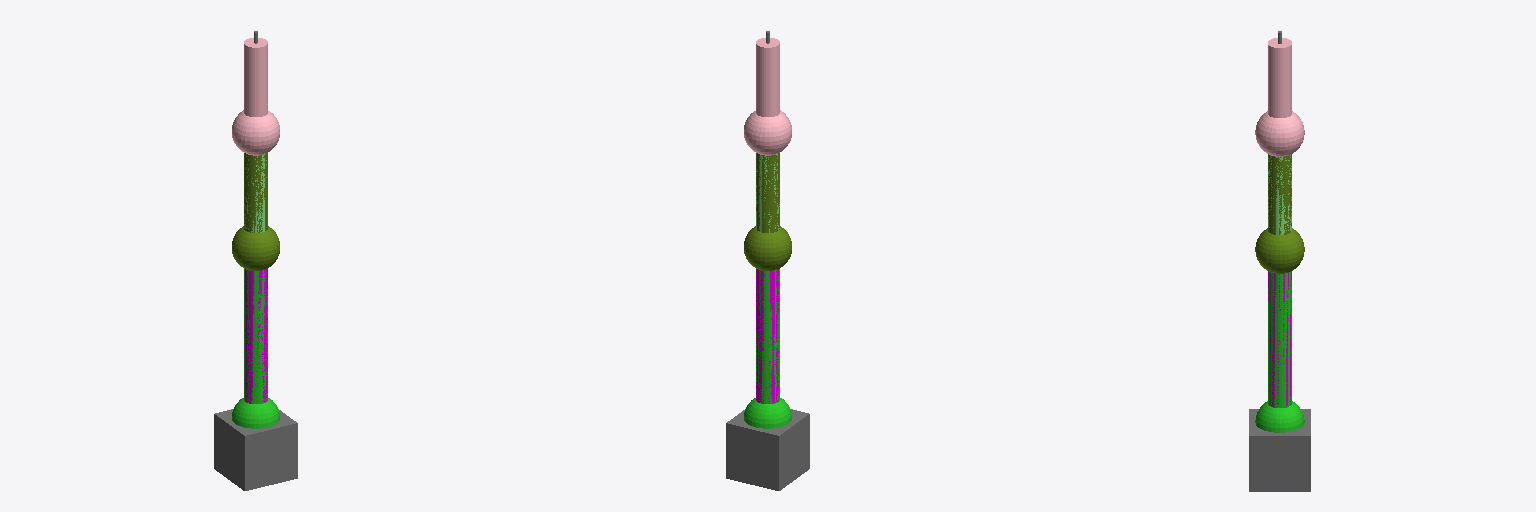
robot.urdf — test_robot:
<?xml version="1.0" ?>
<robot name="test_robot">
    <link name="base_link">
        <inertial>
            <mass value="1.0"/>
            <inertia ixx="0.010416666666666666" iyy="0.010416666666666666" izz="0.010416666666666666" ixy="0.0" ixz="0.0" iyz="0.0"/>
            <origin xyz="0 0 0" rpy="0 0 0"/>
        </inertial>
        <visual>
            <origin xyz="0 0 0" rpy="0 0 0"/>
            <geometry>
                <box size="0.25 0.25 0.25"/>
            </geometry>
            <material name="gray">
                <color rgba="0.5 0.5 0.5 1"/>
            </material>
        </visual>
    </link>
    <joint name="sph_joint_x_1" type="revolute">
        <parent link="base_link"/>
        <child link="sph_link_x_1"/>
        <origin xyz="0 0 0.125" rpy="0 0 0"/>
        <axis xyz="1 0 0"/>
        <limit lower="-3.14" upper="3.14" effort="10" velocity="1"/>
    </joint>
    <link name="sph_link_x_1">
        <inertial>
            <mass value="0.001"/>
            <inertia ixx="4.000000000000001e-06" iyy="4.000000000000001e-06" izz="4.000000000000001e-06" ixy="0.0" ixz="0.0" iyz="0.0"/>
            <origin xyz="0 0 0" rpy="0 0 0"/>
        </inertial>
        <visual>
            <origin xyz="0 0 0" rpy="0 0 0"/>
            <geometry>
                <sphere radius="0.1"/>
            </geometry>
            <material name="limegreen">
                <color rgba="0.19607843137254902 0.803921568627451 0.19607843137254902 1.0"/>
            </material>
        </visual>
    </link>
    <joint name="sph_joint_y_1" type="revolute">
        <parent link="sph_link_x_1"/>
        <child link="sph_link_y_1"/>
        <origin xyz="0 0 0" rpy="0 0 0"/>
        <axis xyz="0 1 0"/>
        <limit lower="-3.14" upper="3.14" effort="10" velocity="1"/>
    </joint>
    <link name="sph_link_y_1">
        <inertial>
            <mass value="0.001"/>
            <inertia ixx="4.000000000000001e-06" iyy="4.000000000000001e-06" izz="4.000000000000001e-06" ixy="0.0" ixz="0.0" iyz="0.0"/>
            <origin xyz="0 0 0" rpy="0 0 0"/>
        </inertial>
        <visual>
            <origin xyz="0 0 0" rpy="0 0 0"/>
            <geometry>
                <sphere radius="0.1"/>
            </geometry>
            <material name="limegreen">
                <color rgba="0.19607843137254902 0.803921568627451 0.19607843137254902 1.0"/>
            </material>
        </visual>
    </link>
    <joint name="sph_joint_z_1" type="revolute">
        <parent link="sph_link_y_1"/>
        <child link="sph_link_z_1"/>
        <origin xyz="0 0 0" rpy="0 0 0"/>
        <axis xyz="0 0 1"/>
        <limit lower="-3.14" upper="3.14" effort="10" velocity="1"/>
    </joint>
    <link name="sph_link_z_1">
        <inertial>
            <mass value="0.001"/>
            <inertia ixx="4.000000000000001e-06" iyy="4.000000000000001e-06" izz="4.000000000000001e-06" ixy="0.0" ixz="0.0" iyz="0.0"/>
            <origin xyz="0 0 0" rpy="0 0 0"/>
        </inertial>
        <visual>
            <origin xyz="0 0 0" rpy="0 0 0"/>
            <geometry>
                <sphere radius="0.1"/>
            </geometry>
            <material name="limegreen">
                <color rgba="0.19607843137254902 0.803921568627451 0.19607843137254902 1.0"/>
            </material>
        </visual>
    </link>
    <joint name="joint0" type="fixed">
        <parent link="sph_link_z_1"/>
        <child link="link0"/>
        <origin xyz="0 0 0" rpy="0 0 0"/>
    </joint>
    <link name="link0">
        <inertial>
            <mass value="1.0"/>
            <inertia ixx="0.047499999999999994" iyy="0.047499999999999994" izz="0.0012500000000000002" ixy="0.0" ixz="0.0" iyz="0.0"/>
            <origin xyz="0 0 0.375" rpy="0 0 0"/>
        </inertial>
        <visual>
            <origin xyz="0 0 0.375" rpy="0 0 0"/>
            <geometry>
                <cylinder length="0.75" radius="0.05"/>
            </geometry>
            <material name="limegreen">
                <color rgba="0.19607843137254902 0.803921568627451 0.19607843137254902 1.0"/>
            </material>
        </visual>
        <collision>
            <origin xyz="0 0 0.375" rpy="0 0 0"/>
            <geometry>
                <cylinder length="0.75" radius="0.05"/>
            </geometry>
        </collision>
    </link>
    <joint name="joint1" type="prismatic">
        <parent link="link0"/>
        <child link="link1"/>
        <origin xyz="0 0 0.061" rpy="0 0 0"/>
        <axis xyz="0 0 1"/>
        <limit lower="0" upper="0.7" effort="10" velocity="1"/>
    </joint>
    <link name="link1">
        <inertial>
            <mass value="1.0"/>
            <inertia ixx="0.04275174999999999" iyy="0.04275174999999999" izz="0.0012500000000000002" ixy="0.0" ixz="0.0" iyz="0.0"/>
            <origin xyz="0 0 0.3555" rpy="0 0 0"/>
        </inertial>
        <visual>
            <origin xyz="0 0 0.3555" rpy="0 0 0"/>
            <geometry>
                <cylinder length="0.711" radius="0.05"/>
            </geometry>
            <material name="fuchsia">
                <color rgba="1.0 0.0 1.0 1.0"/>
            </material>
        </visual>
        <collision>
            <origin xyz="0 0 0.3555" rpy="0 0 0"/>
            <geometry>
                <cylinder length="0.711" radius="0.05"/>
            </geometry>
        </collision>
    </link>
    <joint name="sph_joint_x_2" type="revolute">
        <parent link="link1"/>
        <child link="sph_link_x_2"/>
        <origin xyz="0 0 0.711" rpy="0 0 0"/>
        <axis xyz="1 0 0"/>
        <limit lower="-3.14" upper="3.14" effort="10" velocity="1"/>
    </joint>
    <link name="sph_link_x_2">
        <inertial>
            <mass value="0.001"/>
            <inertia ixx="4.000000000000001e-06" iyy="4.000000000000001e-06" izz="4.000000000000001e-06" ixy="0.0" ixz="0.0" iyz="0.0"/>
            <origin xyz="0 0 0" rpy="0 0 0"/>
        </inertial>
        <visual>
            <origin xyz="0 0 0" rpy="0 0 0"/>
            <geometry>
                <sphere radius="0.1"/>
            </geometry>
            <material name="olivedrab">
                <color rgba="0.4196078431372549 0.5568627450980392 0.13725490196078433 1.0"/>
            </material>
        </visual>
    </link>
    <joint name="sph_joint_y_2" type="revolute">
        <parent link="sph_link_x_2"/>
        <child link="sph_link_y_2"/>
        <origin xyz="0 0 0" rpy="0 0 0"/>
        <axis xyz="0 1 0"/>
        <limit lower="-3.14" upper="3.14" effort="10" velocity="1"/>
    </joint>
    <link name="sph_link_y_2">
        <inertial>
            <mass value="0.001"/>
            <inertia ixx="4.000000000000001e-06" iyy="4.000000000000001e-06" izz="4.000000000000001e-06" ixy="0.0" ixz="0.0" iyz="0.0"/>
            <origin xyz="0 0 0" rpy="0 0 0"/>
        </inertial>
        <visual>
            <origin xyz="0 0 0" rpy="0 0 0"/>
            <geometry>
                <sphere radius="0.1"/>
            </geometry>
            <material name="olivedrab">
                <color rgba="0.4196078431372549 0.5568627450980392 0.13725490196078433 1.0"/>
            </material>
        </visual>
    </link>
    <joint name="sph_joint_z_2" type="revolute">
        <parent link="sph_link_y_2"/>
        <child link="sph_link_z_2"/>
        <origin xyz="0 0 0" rpy="0 0 0"/>
        <axis xyz="0 0 1"/>
        <limit lower="-3.14" upper="3.14" effort="10" velocity="1"/>
    </joint>
    <link name="sph_link_z_2">
        <inertial>
            <mass value="0.001"/>
            <inertia ixx="4.000000000000001e-06" iyy="4.000000000000001e-06" izz="4.000000000000001e-06" ixy="0.0" ixz="0.0" iyz="0.0"/>
            <origin xyz="0 0 0" rpy="0 0 0"/>
        </inertial>
        <visual>
            <origin xyz="0 0 0" rpy="0 0 0"/>
            <geometry>
                <sphere radius="0.1"/>
            </geometry>
            <material name="olivedrab">
                <color rgba="0.4196078431372549 0.5568627450980392 0.13725490196078433 1.0"/>
            </material>
        </visual>
    </link>
    <joint name="joint2" type="fixed">
        <parent link="sph_link_z_2"/>
        <child link="link2"/>
        <origin xyz="0 0 0" rpy="0 0 0"/>
    </joint>
    <link name="link2">
        <inertial>
            <mass value="1.0"/>
            <inertia ixx="0.021458333333333333" iyy="0.021458333333333333" izz="0.0012500000000000002" ixy="0.0" ixz="0.0" iyz="0.0"/>
            <origin xyz="0 0 0.25" rpy="0 0 0"/>
        </inertial>
        <visual>
            <origin xyz="0 0 0.25" rpy="0 0 0"/>
            <geometry>
                <cylinder length="0.5" radius="0.05"/>
            </geometry>
            <material name="olivedrab">
                <color rgba="0.4196078431372549 0.5568627450980392 0.13725490196078433 1.0"/>
            </material>
        </visual>
        <collision>
            <origin xyz="0 0 0.25" rpy="0 0 0"/>
            <geometry>
                <cylinder length="0.5" radius="0.05"/>
            </geometry>
        </collision>
    </link>
    <joint name="joint3" type="prismatic">
        <parent link="link2"/>
        <child link="link3"/>
        <origin xyz="0 0 0.061" rpy="0 0 0"/>
        <axis xyz="0 0 1"/>
        <limit lower="0" upper="0.45" effort="10" velocity="1"/>
    </joint>
    <link name="link3">
        <inertial>
            <mass value="1.0"/>
            <inertia ixx="0.018335083333333335" iyy="0.018335083333333335" izz="0.0012500000000000002" ixy="0.0" ixz="0.0" iyz="0.0"/>
            <origin xyz="0 0 0.2305" rpy="0 0 0"/>
        </inertial>
        <visual>
            <origin xyz="0 0 0.2305" rpy="0 0 0"/>
            <geometry>
                <cylinder length="0.461" radius="0.05"/>
            </geometry>
            <material name="lightgreen">
                <color rgba="0.5647058823529412 0.9333333333333333 0.5647058823529412 1.0"/>
            </material>
        </visual>
        <collision>
            <origin xyz="0 0 0.2305" rpy="0 0 0"/>
            <geometry>
                <cylinder length="0.461" radius="0.05"/>
            </geometry>
        </collision>
    </link>
    <joint name="sph_joint_x_3" type="revolute">
        <parent link="link3"/>
        <child link="sph_link_x_3"/>
        <origin xyz="0 0 0.461" rpy="0 0 0"/>
        <axis xyz="1 0 0"/>
        <limit lower="-3.14" upper="3.14" effort="10" velocity="1"/>
    </joint>
    <link name="sph_link_x_3">
        <inertial>
            <mass value="0.001"/>
            <inertia ixx="4.000000000000001e-06" iyy="4.000000000000001e-06" izz="4.000000000000001e-06" ixy="0.0" ixz="0.0" iyz="0.0"/>
            <origin xyz="0 0 0" rpy="0 0 0"/>
        </inertial>
        <visual>
            <origin xyz="0 0 0" rpy="0 0 0"/>
            <geometry>
                <sphere radius="0.1"/>
            </geometry>
            <material name="pink">
                <color rgba="1.0 0.7529411764705882 0.796078431372549 1.0"/>
            </material>
        </visual>
    </link>
    <joint name="sph_joint_y_3" type="revolute">
        <parent link="sph_link_x_3"/>
        <child link="sph_link_y_3"/>
        <origin xyz="0 0 0" rpy="0 0 0"/>
        <axis xyz="0 1 0"/>
        <limit lower="-3.14" upper="3.14" effort="10" velocity="1"/>
    </joint>
    <link name="sph_link_y_3">
        <inertial>
            <mass value="0.001"/>
            <inertia ixx="4.000000000000001e-06" iyy="4.000000000000001e-06" izz="4.000000000000001e-06" ixy="0.0" ixz="0.0" iyz="0.0"/>
            <origin xyz="0 0 0" rpy="0 0 0"/>
        </inertial>
        <visual>
            <origin xyz="0 0 0" rpy="0 0 0"/>
            <geometry>
                <sphere radius="0.1"/>
            </geometry>
            <material name="pink">
                <color rgba="1.0 0.7529411764705882 0.796078431372549 1.0"/>
            </material>
        </visual>
    </link>
    <joint name="sph_joint_z_3" type="revolute">
        <parent link="sph_link_y_3"/>
        <child link="sph_link_z_3"/>
        <origin xyz="0 0 0" rpy="0 0 0"/>
        <axis xyz="0 0 1"/>
        <limit lower="-3.14" upper="3.14" effort="10" velocity="1"/>
    </joint>
    <link name="sph_link_z_3">
        <inertial>
            <mass value="0.001"/>
            <inertia ixx="4.000000000000001e-06" iyy="4.000000000000001e-06" izz="4.000000000000001e-06" ixy="0.0" ixz="0.0" iyz="0.0"/>
            <origin xyz="0 0 0" rpy="0 0 0"/>
        </inertial>
        <visual>
            <origin xyz="0 0 0" rpy="0 0 0"/>
            <geometry>
                <sphere radius="0.1"/>
            </geometry>
            <material name="pink">
                <color rgba="1.0 0.7529411764705882 0.796078431372549 1.0"/>
            </material>
        </visual>
    </link>
    <joint name="joint4" type="fixed">
        <parent link="sph_link_z_3"/>
        <child link="link4"/>
        <origin xyz="0 0 0" rpy="0 0 0"/>
    </joint>
    <link name="link4">
        <inertial>
            <mass value="1.0"/>
            <inertia ixx="0.013958333333333336" iyy="0.013958333333333336" izz="0.0012500000000000002" ixy="0.0" ixz="0.0" iyz="0.0"/>
            <origin xyz="0 0 0.2" rpy="0 0 0"/>
        </inertial>
        <visual>
            <origin xyz="0 0 0.2" rpy="0 0 0"/>
            <geometry>
                <cylinder length="0.4" radius="0.05"/>
            </geometry>
            <material name="pink">
                <color rgba="1.0 0.7529411764705882 0.796078431372549 1.0"/>
            </material>
        </visual>
        <collision>
            <origin xyz="0 0 0.2" rpy="0 0 0"/>
            <geometry>
                <cylinder length="0.4" radius="0.05"/>
            </geometry>
        </collision>
    </link>
    <joint name="probe_joint" type="fixed">
        <parent link="link4"/>
        <child link="probe_link"/>
        <origin xyz="0 0 0.4" rpy="0 0 0"/>
    </joint>
    <link name="probe_link">
        <inertial>
            <mass value="0.0"/>
            <inertia ixx="0.0" iyy="0.0" izz="0.0" ixy="0.0" ixz="0.0" iyz="0.0"/>
            <origin xyz="0 0 0" rpy="0 0 0"/>
        </inertial>
        <visual>
            <origin xyz="0 0 0" rpy="0 0 0"/>
            <geometry>
                <cylinder length="0.1" radius="0.01"/>
            </geometry>
            <material name="gray">
                <color rgba="0.5 0.5 0.5 1"/>
            </material>
        </visual>
    </link>
    <joint name="end_effector_joint" type="fixed">
        <parent link="probe_link"/>
        <child link="end_effector"/>
        <origin xyz="0 0 0.1" rpy="0 0 0"/>
    </joint>
    <link name="end_effector">
        <inertial>
            <mass value="0.0"/>
            <inertia ixx="0.0" iyy="0.0" izz="0.0" ixy="0.0" ixz="0.0" iyz="0.0"/>
            <origin xyz="0 0 0" rpy="0 0 0"/>
        </inertial>
        <visual>
            <origin xyz="0 0 0" rpy="0 0 0"/>
            <geometry>
                <cylinder length="0" radius="0"/>
            </geometry>
            <material name="gray">
                <color rgba="0.5 0.5 0.5 1"/>
            </material>
        </visual>
    </link>
</robot>

--- Facts derived from the render (not from the file) ---
The picture shows the robot from 3 angles, left to right: view 1: azimuth 30°, elevation 25°; view 2: azimuth 150°, elevation 25°; view 3: azimuth 270°, elevation 25°; orthographic projection.
Model test_robot with 17 links and 16 joints (9 revolute, 2 prismatic, 5 fixed), rooted at base_link, posed all joints at 0.
Links seen in each view (by area): view 1: base_link, link0, link4, sph_link_x_3, sph_link_x_2, link2, link1, sph_link_x_1; view 2: base_link, link4, link0, sph_link_x_3, sph_link_x_2, link2, link1, sph_link_x_1; view 3: base_link, link0, link4, sph_link_x_2, sph_link_x_3, link2, sph_link_x_1, link1.
Link boxes in pixels (box(x1,y1,x2,y2)): base_link: box(214, 409, 297, 490); link0: box(244, 269, 267, 403); link4: box(244, 38, 267, 116); sph_link_x_3: box(232, 110, 279, 155); sph_link_x_2: box(232, 226, 279, 270); link2: box(244, 153, 267, 232); link1: box(245, 269, 267, 403); sph_link_x_1: box(232, 398, 279, 428); base_link: box(726, 409, 809, 490); link4: box(756, 38, 779, 116); link0: box(756, 269, 779, 403); sph_link_x_3: box(744, 110, 791, 155); sph_link_x_2: box(744, 226, 791, 270); link2: box(756, 153, 779, 232); link1: box(756, 269, 778, 403); sph_link_x_1: box(744, 398, 791, 428); base_link: box(1249, 409, 1310, 491); link0: box(1268, 272, 1291, 407); link4: box(1268, 38, 1291, 117); sph_link_x_2: box(1255, 228, 1304, 273); sph_link_x_3: box(1255, 111, 1304, 156); link2: box(1268, 154, 1291, 234); sph_link_x_1: box(1255, 401, 1304, 432); link1: box(1268, 271, 1291, 407).
Bounding box of the posed robot: 0.25 × 0.25 × 2.04 m (x, y, z).
Geometry: primitives only (box / cylinder / sphere), no mesh files.